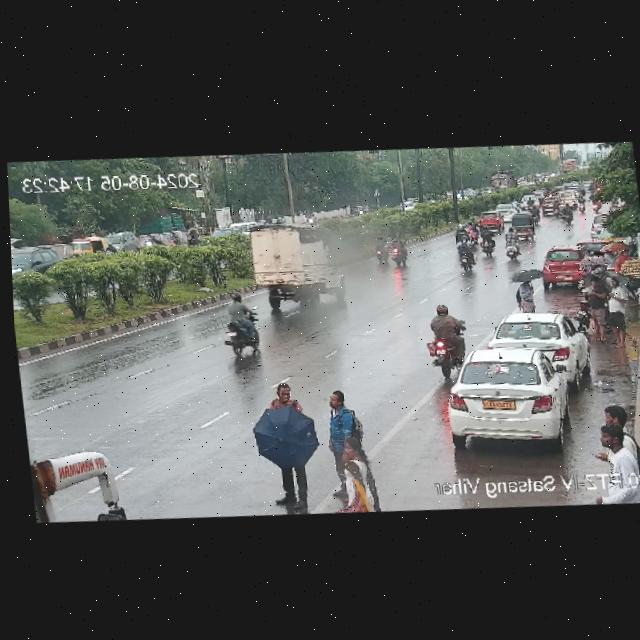bus: (30, 430, 135, 525)
car: (437, 342, 592, 453), (484, 308, 589, 377), (539, 245, 584, 286), (11, 243, 58, 282), (69, 235, 105, 255), (511, 213, 535, 237), (587, 211, 608, 238), (232, 218, 259, 238), (476, 211, 504, 230), (207, 226, 241, 240), (561, 190, 576, 208), (539, 197, 554, 214), (520, 194, 528, 208), (533, 188, 545, 197)
motorcycle: (420, 300, 469, 375), (212, 305, 261, 358), (387, 229, 410, 267), (474, 227, 497, 258), (457, 235, 477, 270), (498, 231, 522, 260), (373, 228, 388, 264), (467, 216, 482, 243), (562, 202, 575, 225), (183, 226, 198, 244), (165, 229, 179, 247), (531, 204, 541, 226), (454, 221, 467, 237), (104, 241, 116, 256), (577, 194, 586, 214), (145, 234, 159, 246), (559, 200, 567, 220), (591, 196, 601, 212), (525, 196, 535, 210), (511, 197, 519, 212), (554, 200, 560, 217), (307, 211, 317, 221), (263, 215, 274, 224), (358, 206, 365, 215)
person: (259, 378, 307, 513), (332, 435, 371, 513), (589, 425, 640, 478), (324, 390, 364, 450), (598, 278, 632, 347), (584, 276, 608, 346), (595, 399, 631, 425), (518, 279, 536, 312), (600, 248, 620, 277), (616, 246, 628, 262), (604, 249, 612, 262)
truck: (229, 218, 335, 311)
